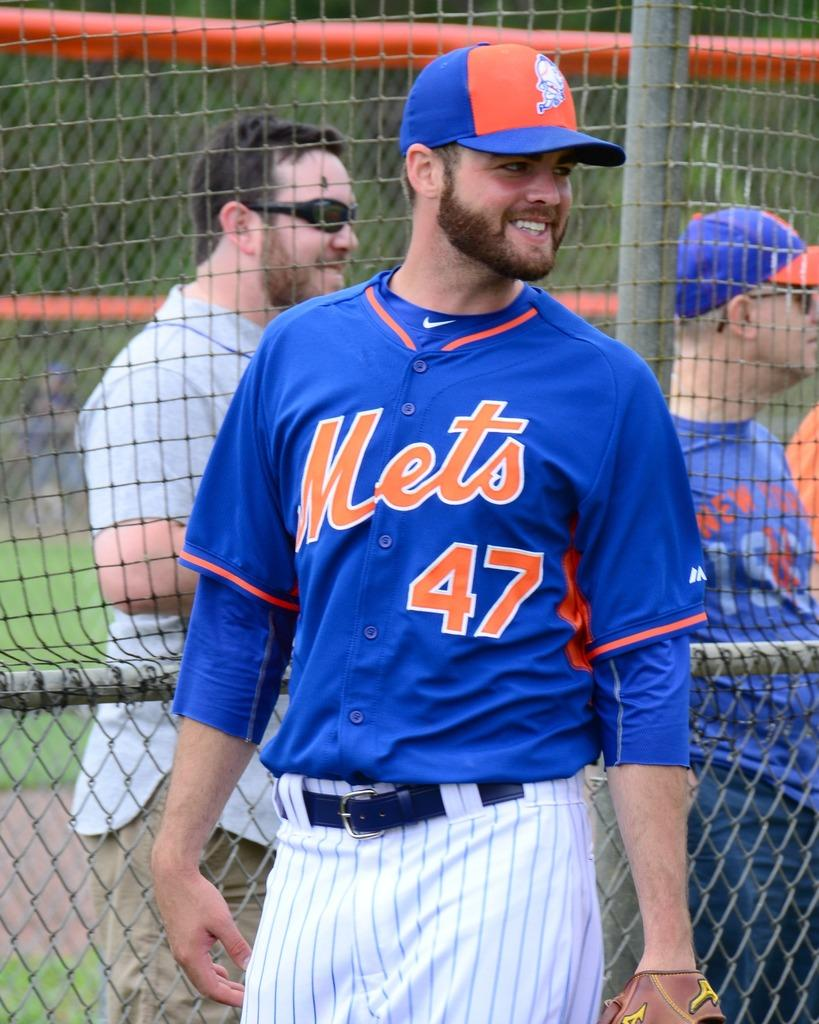Hat: (400, 46, 628, 158), (676, 202, 818, 316)
